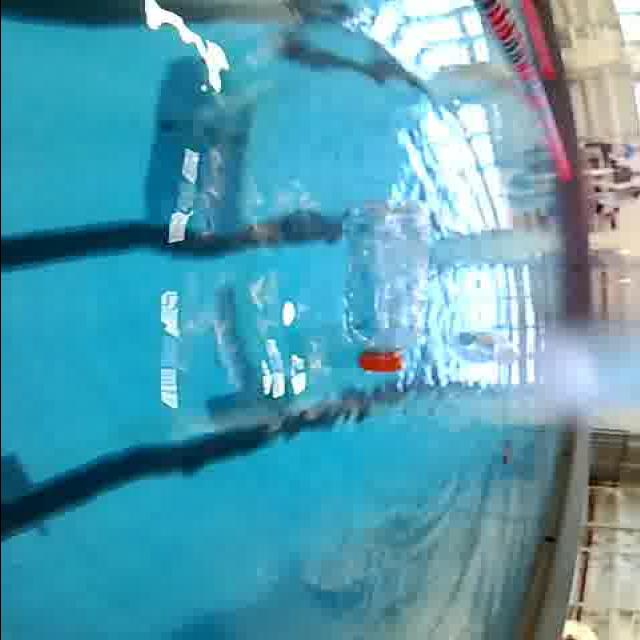Bottle: (334, 195, 434, 377)
